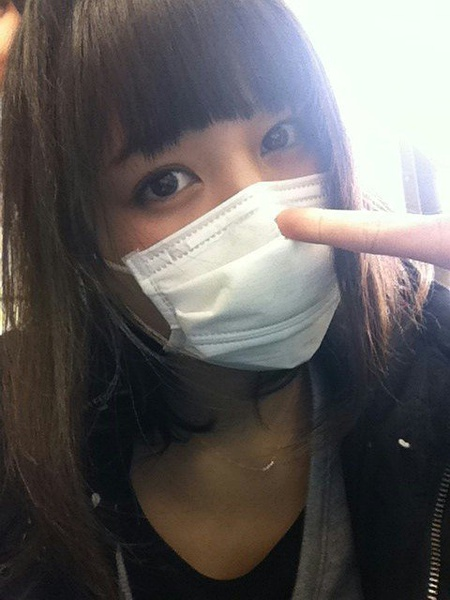face_mask: (104, 44, 341, 373)
